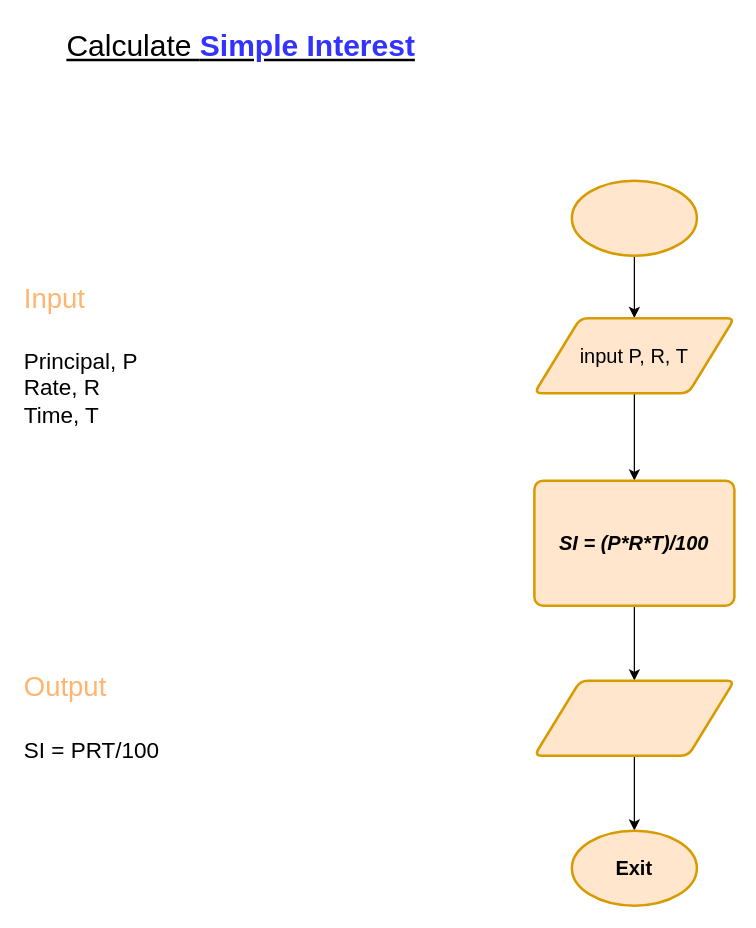
The diagram is 756 pixels wide and 928 high, and some of its shapes have lost their labels. Each missing label, with the box of its shape:
print SI: (532, 679, 735, 756)
Start: (570, 179, 698, 256)
